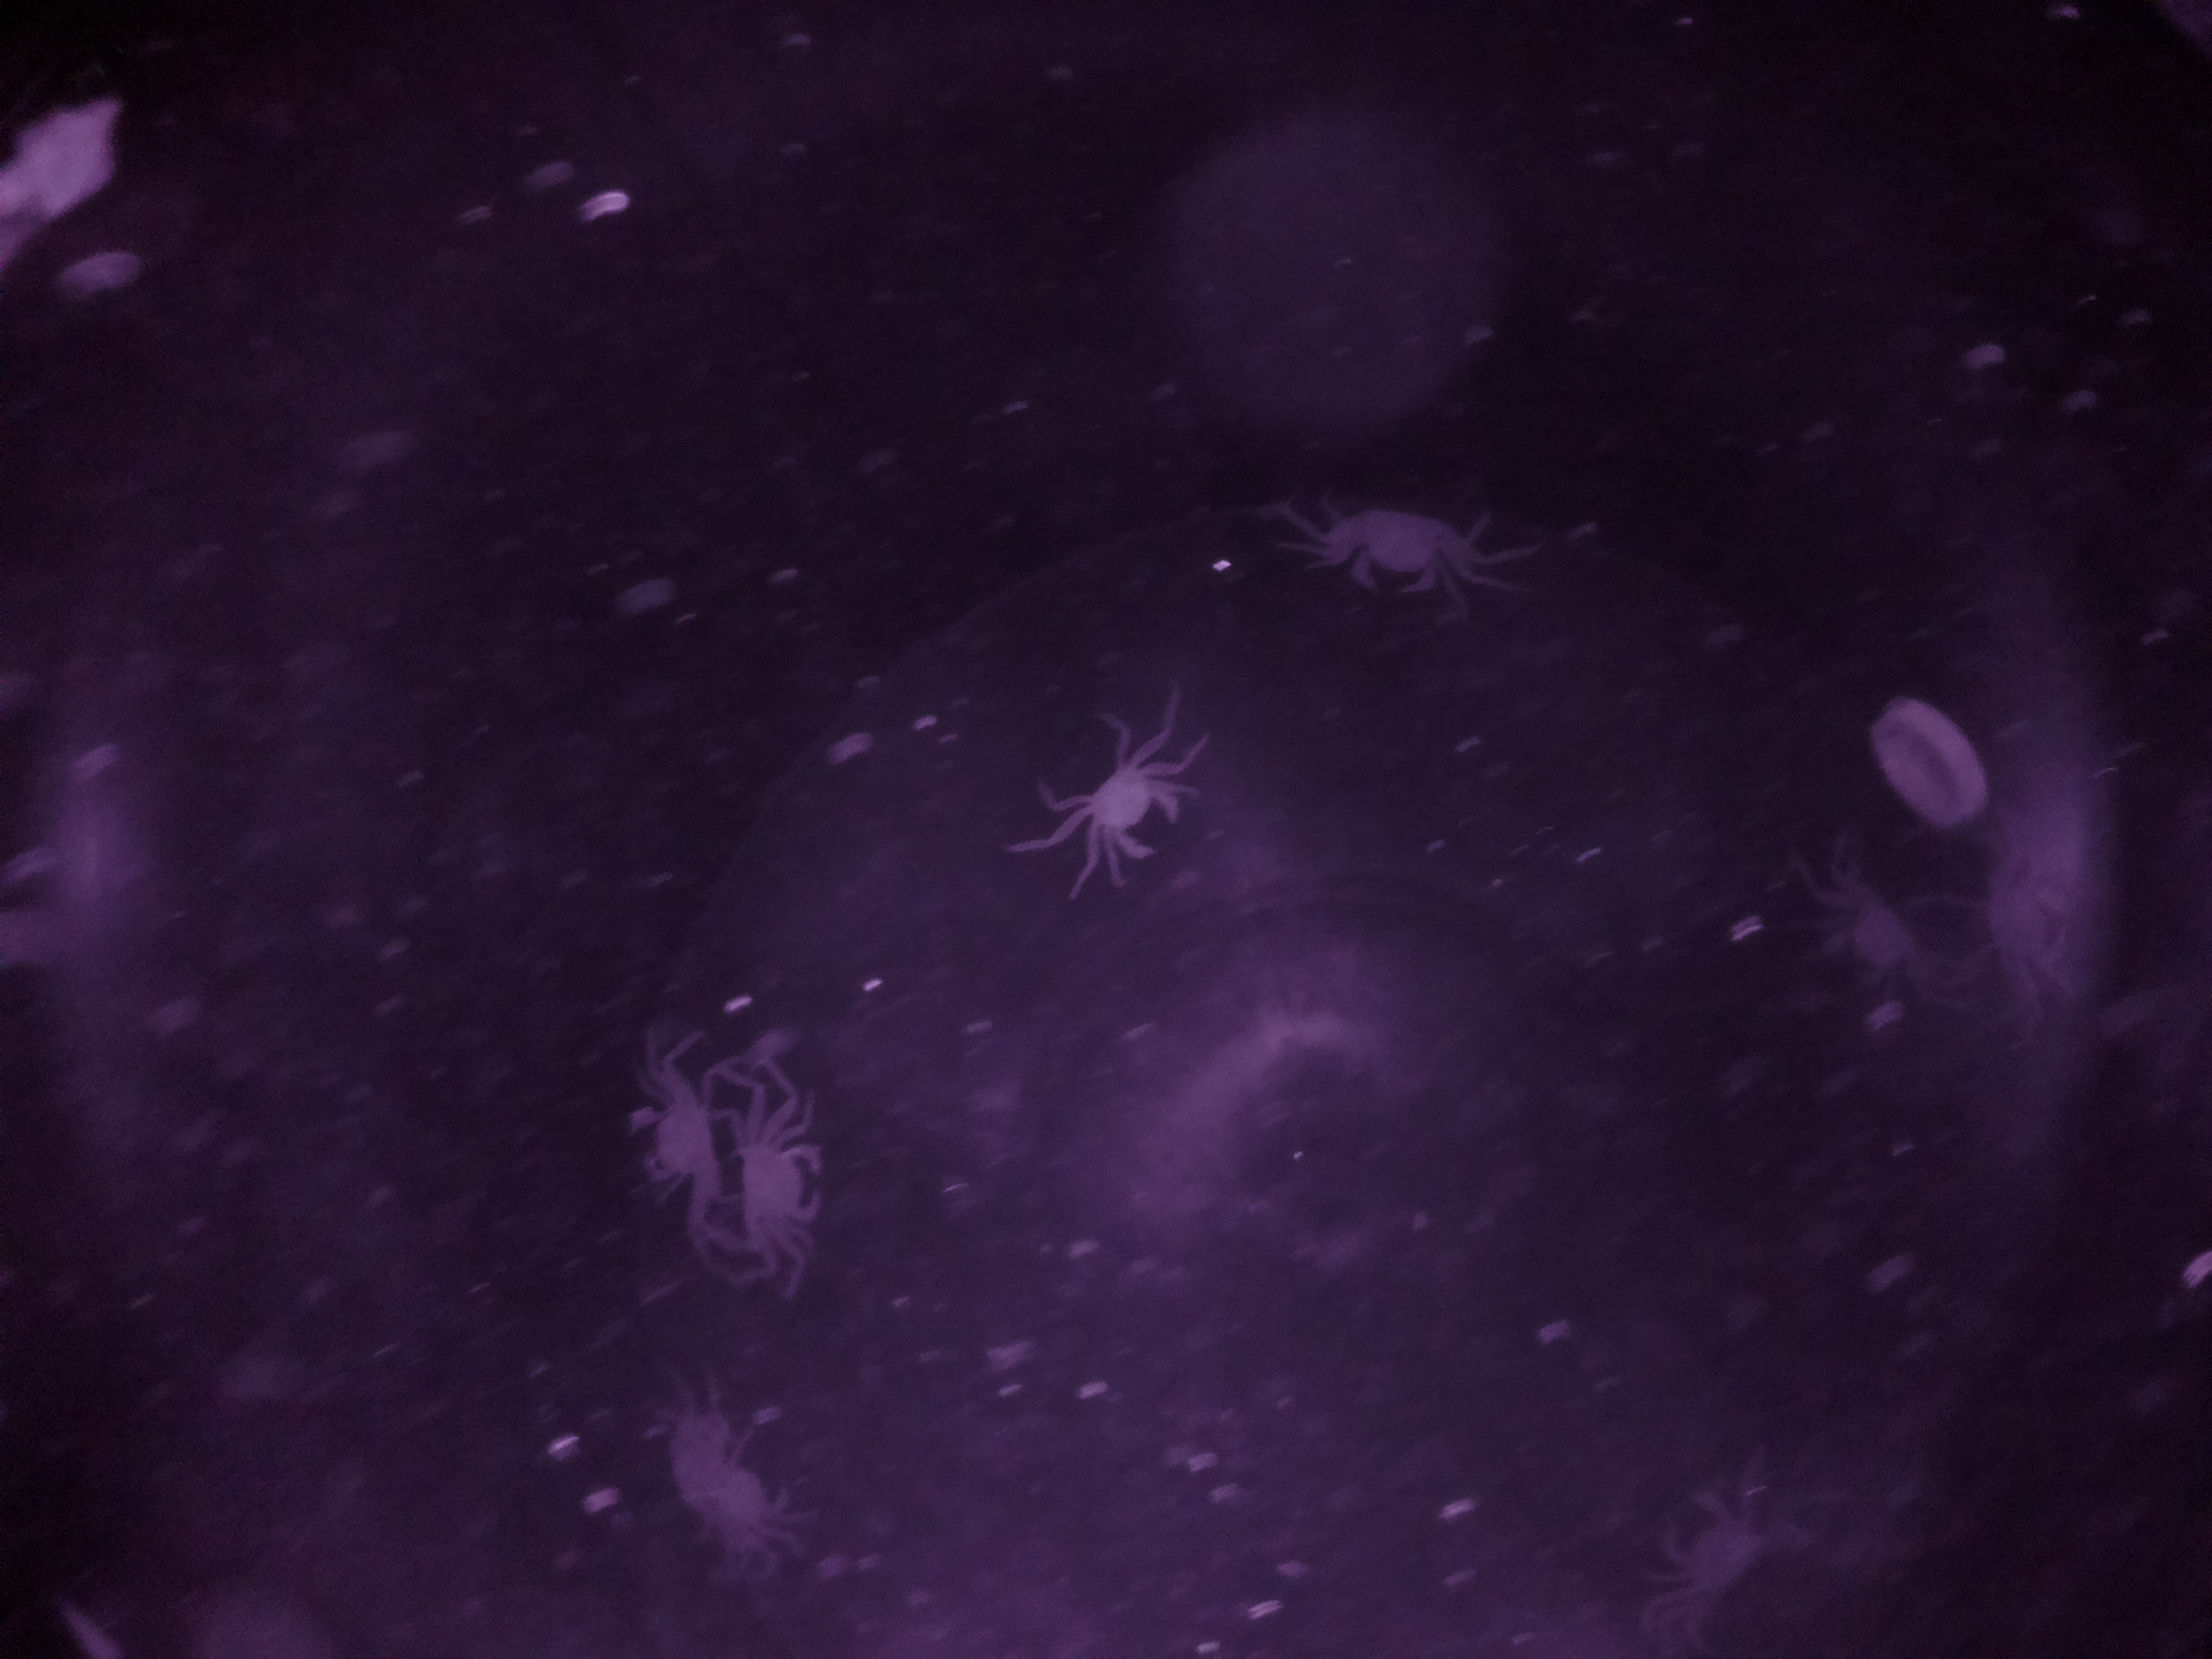Crab: (1318, 490, 1467, 610), (718, 1112, 836, 1256), (631, 1061, 735, 1209), (1073, 744, 1186, 875)
